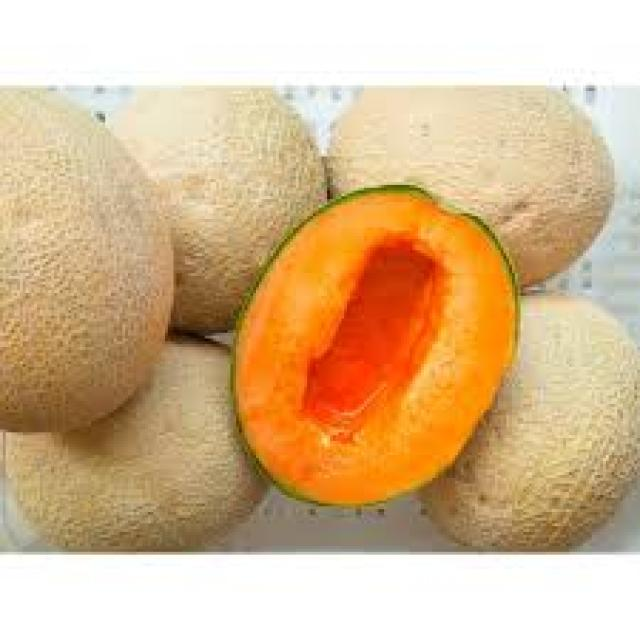cantaloupe: (235, 188, 522, 502)
